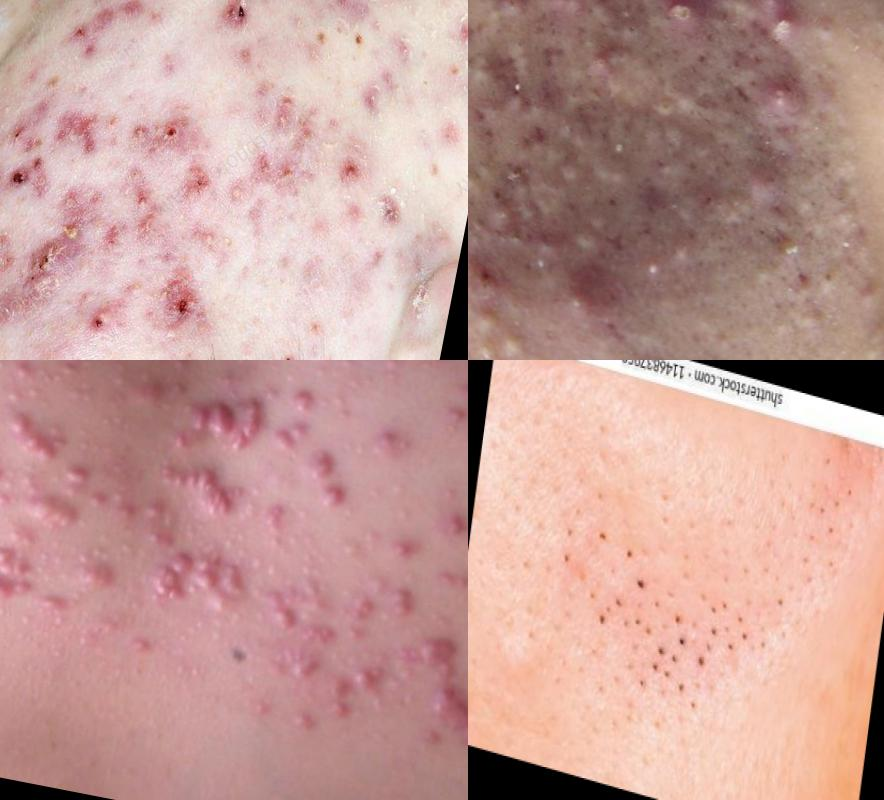acne_scars: (244, 65, 357, 193), (49, 1, 157, 85), (32, 79, 124, 167), (190, 1, 267, 44), (308, 1, 396, 32)
blackhead: (784, 437, 866, 605), (699, 595, 758, 680), (751, 568, 810, 648), (624, 639, 687, 707), (580, 580, 639, 648), (590, 514, 646, 574), (543, 513, 593, 580), (630, 594, 681, 658), (666, 670, 715, 732), (672, 608, 706, 656), (633, 571, 654, 602)
keloid: (148, 459, 248, 526), (1, 405, 67, 468), (175, 394, 249, 449), (16, 488, 87, 544), (146, 548, 196, 610), (425, 684, 469, 753), (1, 540, 42, 608), (407, 631, 464, 679)
papular: (630, 170, 698, 229), (469, 249, 514, 303), (744, 154, 780, 204), (306, 449, 343, 489), (314, 483, 352, 518), (533, 1, 591, 20)
purulent: (558, 268, 619, 331), (653, 1, 712, 37), (759, 74, 801, 117), (769, 1, 796, 39)
sebo-crystan-conglo: (1, 197, 108, 335), (273, 647, 387, 749), (256, 588, 342, 653), (184, 550, 254, 621), (343, 573, 419, 633), (126, 496, 185, 558), (225, 388, 271, 463), (71, 549, 127, 601), (86, 284, 121, 345), (269, 419, 314, 460), (495, 26, 537, 64), (284, 379, 321, 421)
whitehead: (469, 297, 541, 361), (552, 212, 610, 263), (803, 1, 862, 50), (622, 236, 678, 287), (52, 374, 106, 418), (737, 253, 783, 300), (589, 146, 636, 191), (469, 146, 502, 206), (648, 84, 686, 131), (254, 544, 293, 588), (608, 14, 653, 51), (851, 262, 880, 314), (787, 158, 821, 201), (557, 77, 596, 114), (809, 253, 838, 293), (615, 344, 680, 361), (827, 208, 862, 236), (1, 590, 21, 635), (469, 203, 489, 246), (695, 352, 731, 361)
